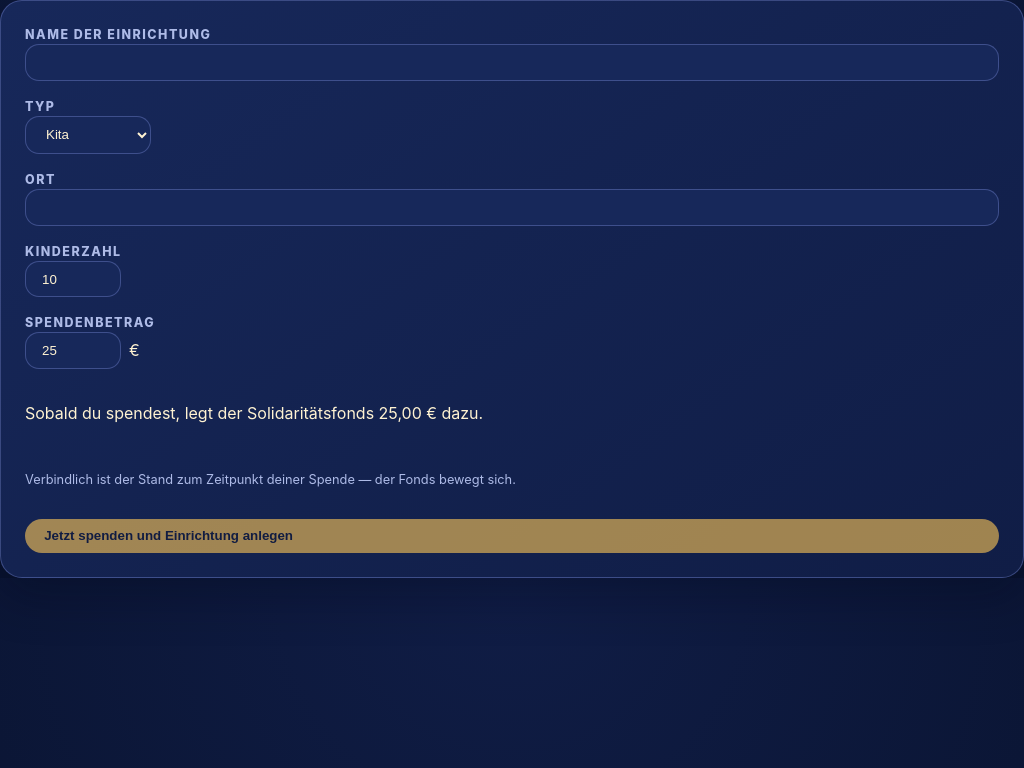
Test: EinrichtungAnlegen › zeigt bei dedup:true die Doppelanlage-Copy statt der Erfolgs-Ansicht, mit Link zur bestehenden Einrichtung
The width and height of the screenshot is (1024, 768).
Expected: the text "Sobald du spendest, legt der Solidaritätsfonds 25,00 € dazu." is shown, [25,403,483,423]
Type "Kita Sonnenschein" into the field labelled "Name der Einrichtung" at x=512, y=62, box [25,44,999,80]
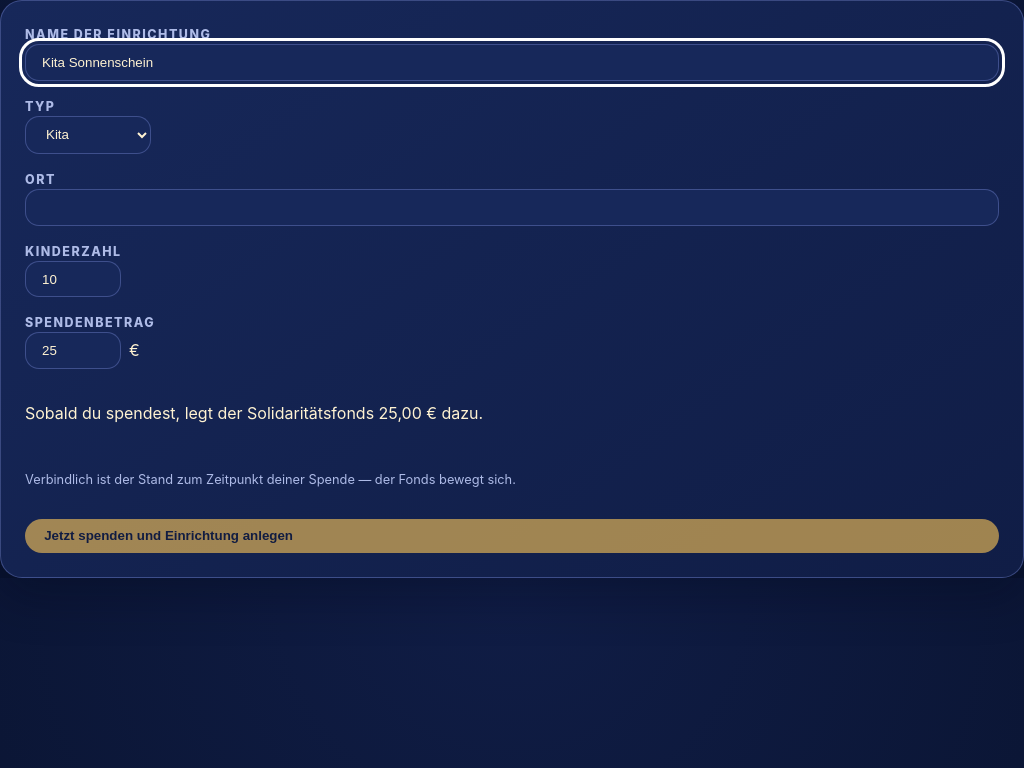
Type "Kiel" into the field labelled "Ort" at x=512, y=208, box [25,189,999,226]
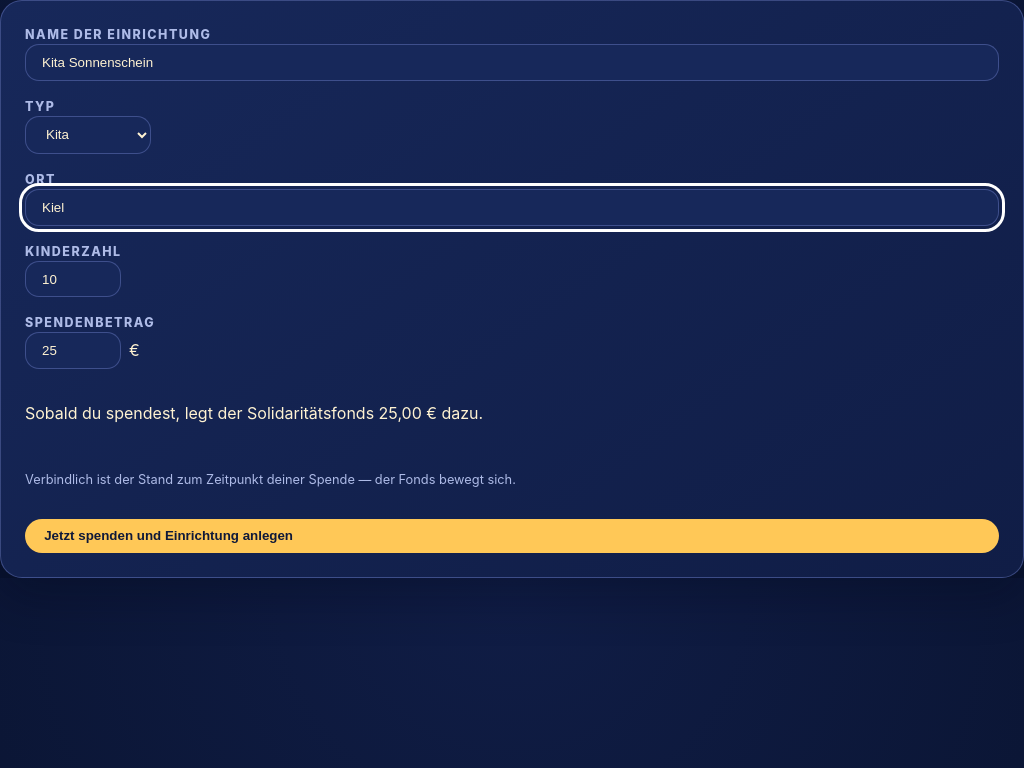
Click the button "Jetzt spenden und Einrichtung anlegen" at x=169, y=536, box [25,519,999,553]
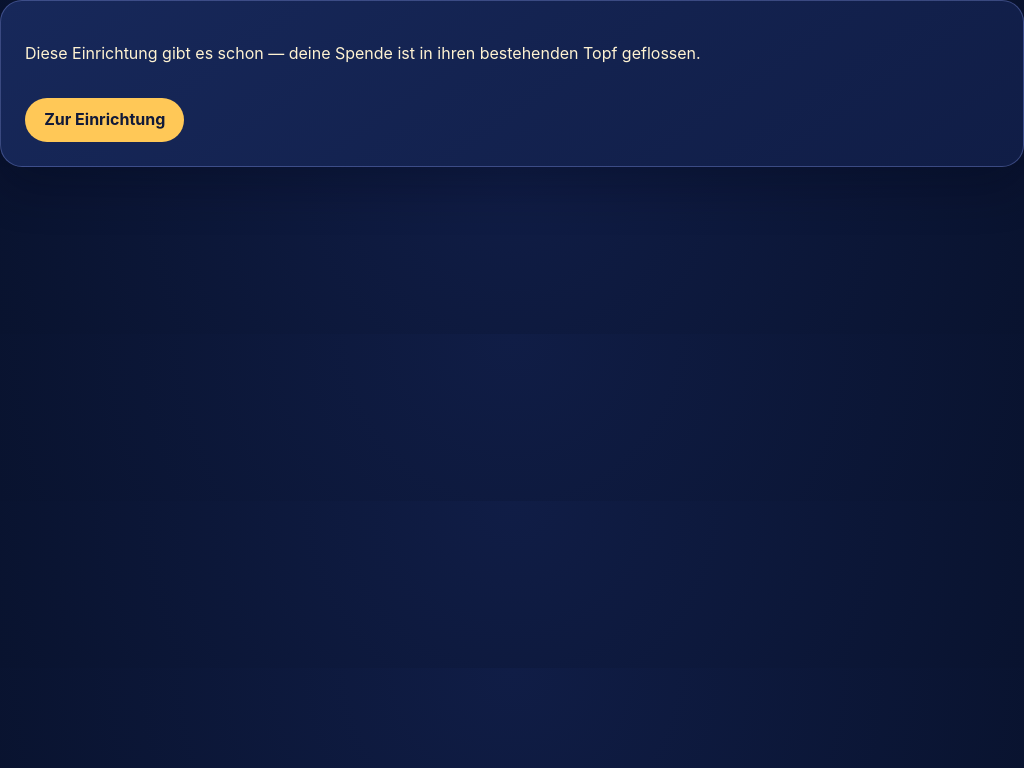
Expected: the text "Diese Einrichtung gibt es schon — deine Spende ist in ihren bestehenden Topf geflossen." is shown, [25,43,701,63]
